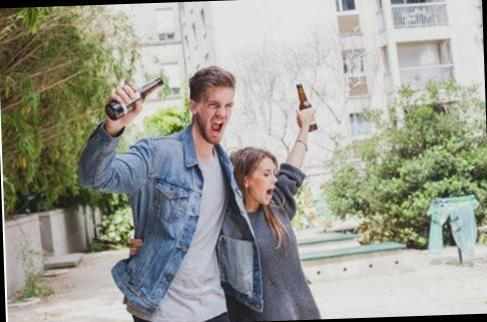Drunk: (196, 82, 235, 143), (245, 152, 279, 205)
